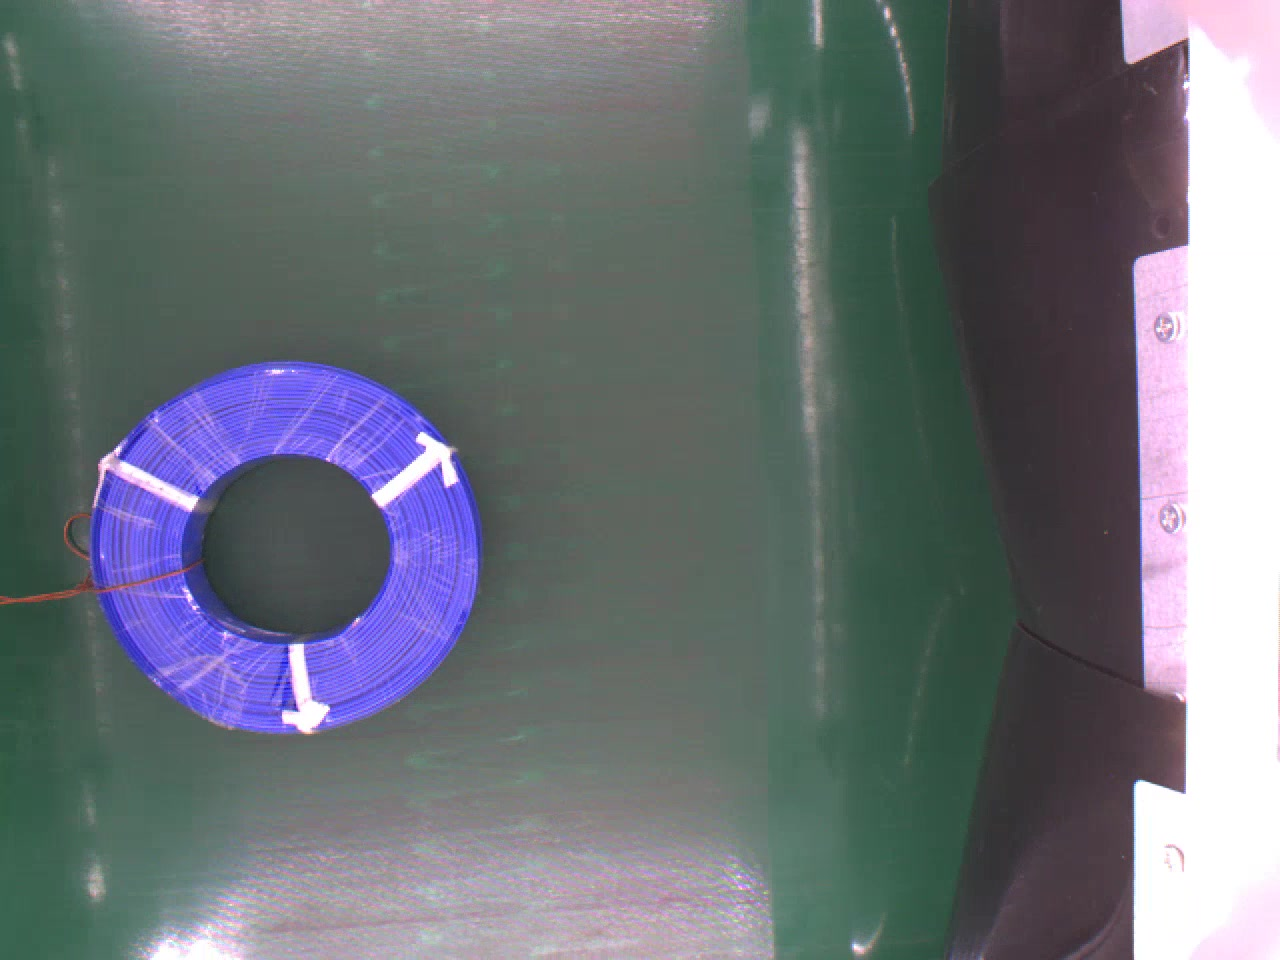blue: (86, 362, 479, 735)
